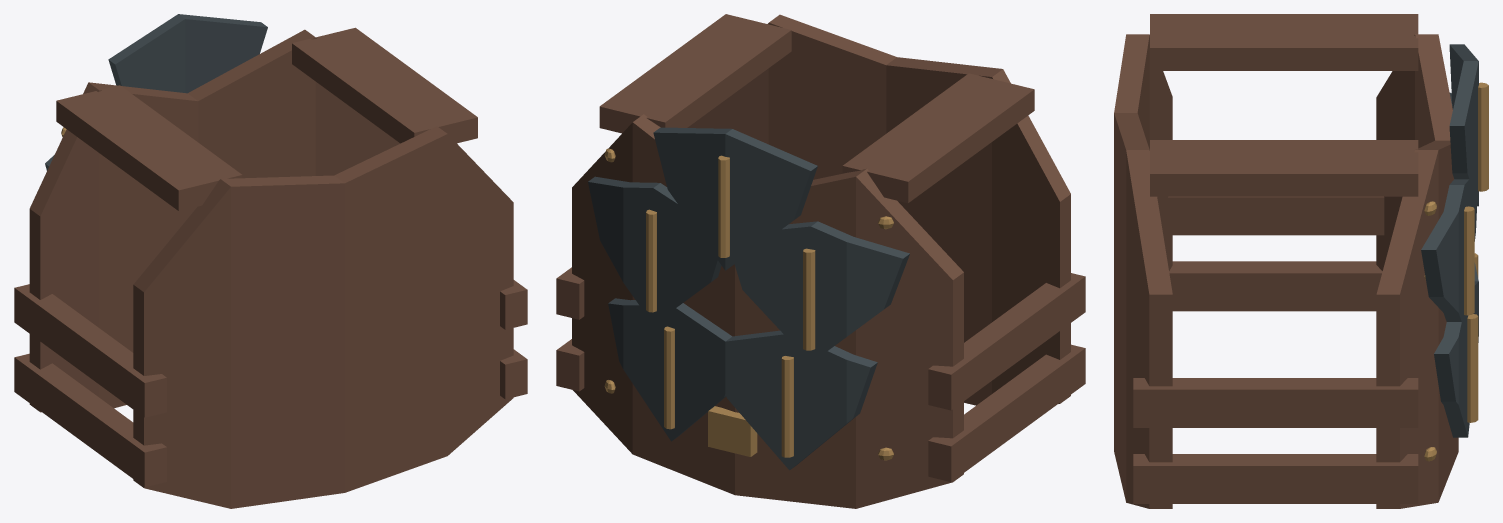
Rendered from AE_Item_DrakeScaleVest.fbx.
3 views of the same model, side by side, from view 1: azimuth 30°, elevation 25°; view 2: azimuth 150°, elevation 25°; view 3: azimuth 270°, elevation 25° (orthographic). The views are drawn at different scales.
Parts seen in each view (by area): view 1: AE_Item_DrakeScaleVest; view 2: AE_Item_DrakeScaleVest; view 3: AE_Item_DrakeScaleVest.
Part boxes in pixels (x1=…): AE_Item_DrakeScaleVest: x1=14, y1=14, x2=527, y2=508; AE_Item_DrakeScaleVest: x1=556, y1=14, x2=1085, y2=508; AE_Item_DrakeScaleVest: x1=1114, y1=14, x2=1488, y2=508.
Size of the model in its own units: 0.577 by 0.5142 by 0.447.
